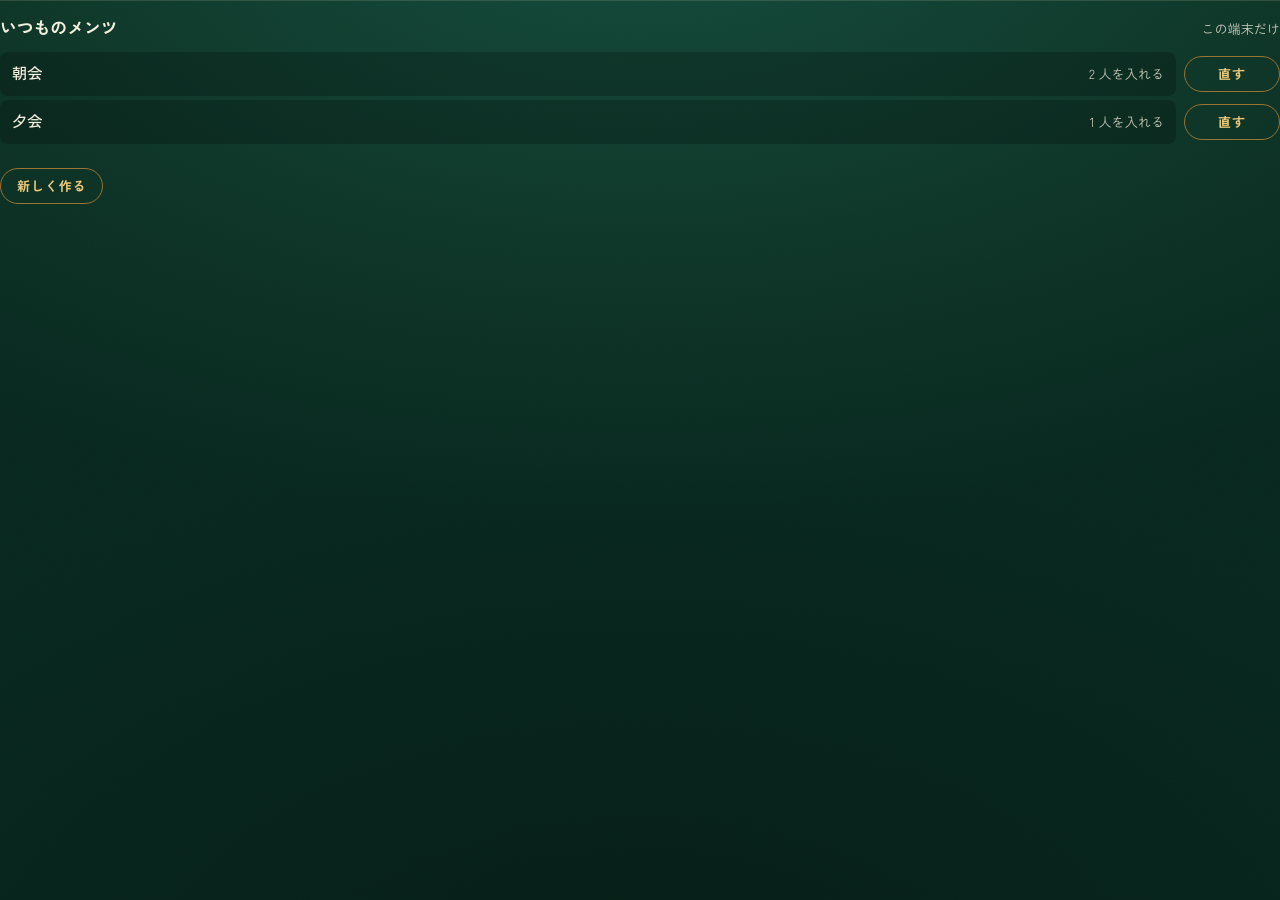
Test: 直す・消す › Given 直すを押す / Then 欄に中身が入り、題が出て、名前の欄にフォーカス
Click the button with aria-label "朝会 を直す": (1232, 74) left=1184, top=56, right=1279, bottom=92
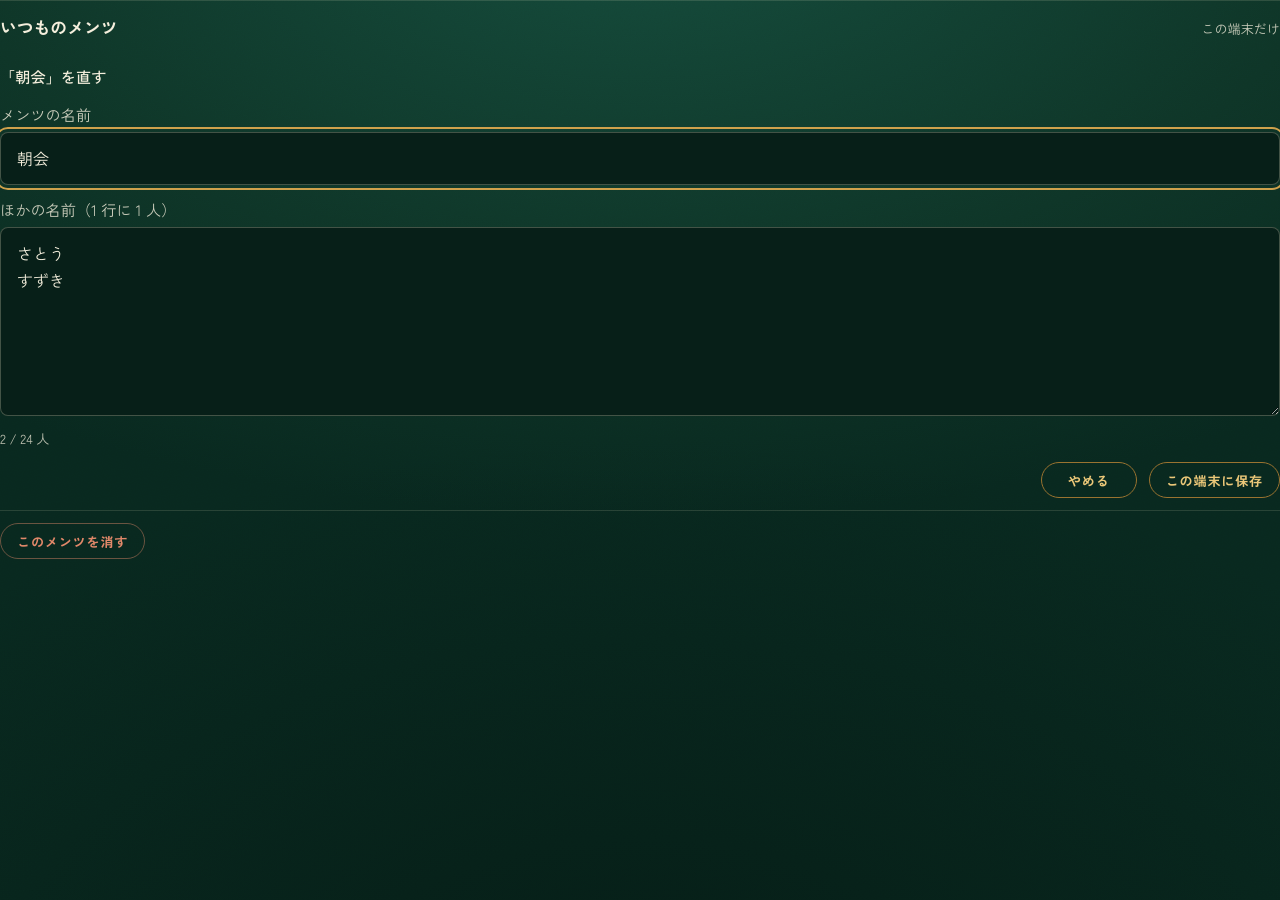
Result: the text "「朝会」を直す" is shown at left=0, top=65, right=106, bottom=87
Result: the field labelled "メンツの名前" holds "朝会" at left=0, top=132, right=1279, bottom=185
